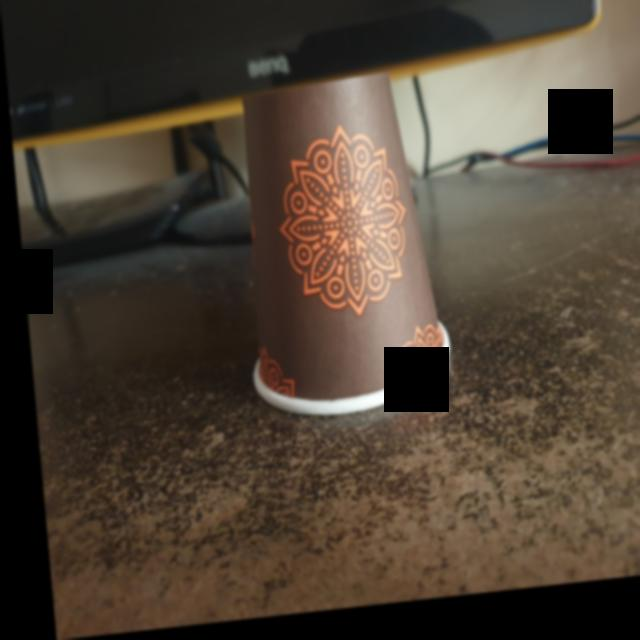cups: (218, 60, 452, 444)
